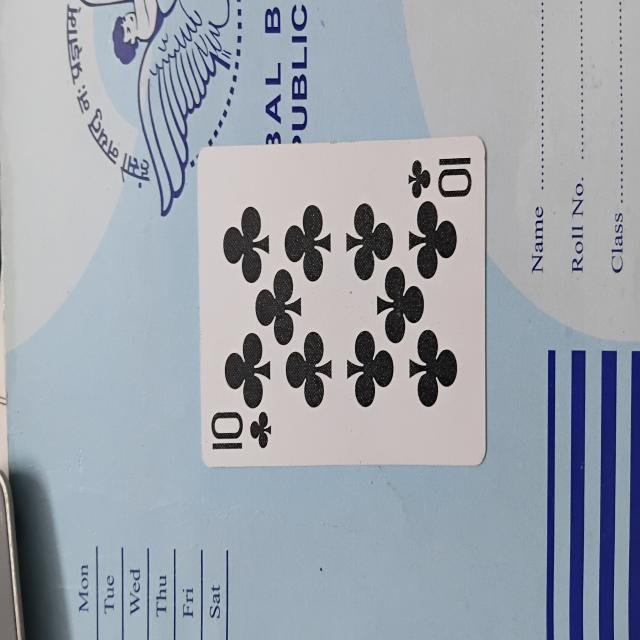10C: (198, 147, 490, 466)
